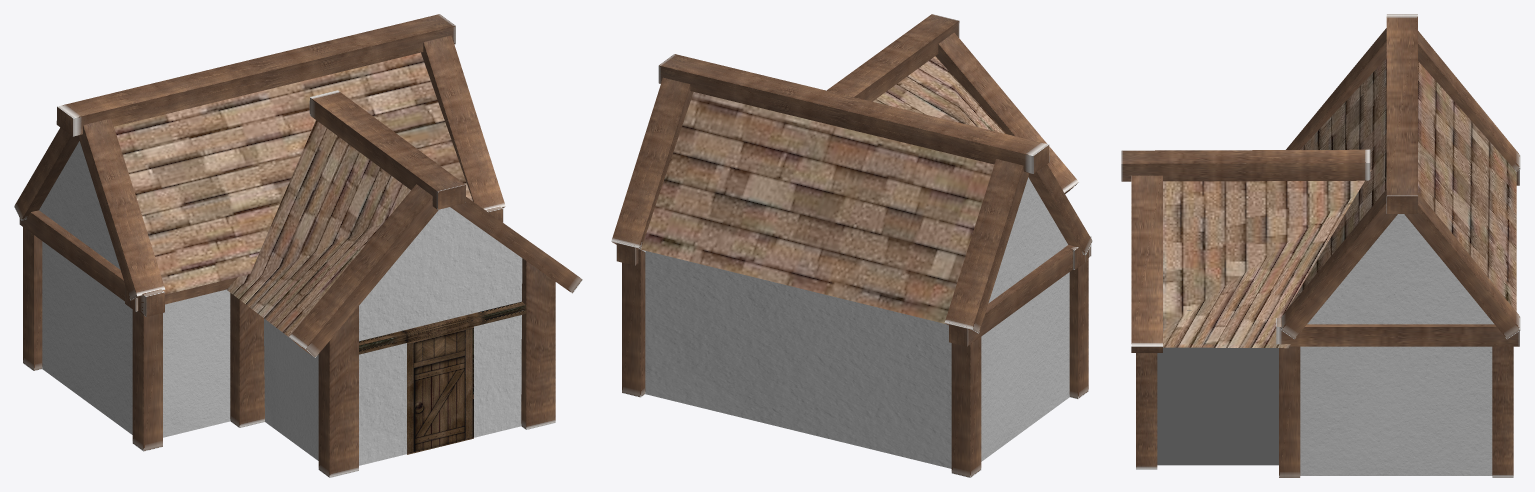
The model's file is House1.fbx.
The picture shows the model from 3 angles, left to right: view 1: azimuth 30°, elevation 25°; view 2: azimuth 150°, elevation 25°; view 3: azimuth 270°, elevation 25°; orthographic projection. The views are drawn at different scales.
Visible parts, largest first — view 1: House1; view 2: House1; view 3: House1.
Boxes of the visible parts, left/top/right/bottom form: House1: left=14, top=14, right=582, bottom=477; House1: left=611, top=14, right=1092, bottom=477; House1: left=1121, top=14, right=1520, bottom=477.
Size of the model in its own units: 807 by 597 by 750.
7 materials, 4 textured.
